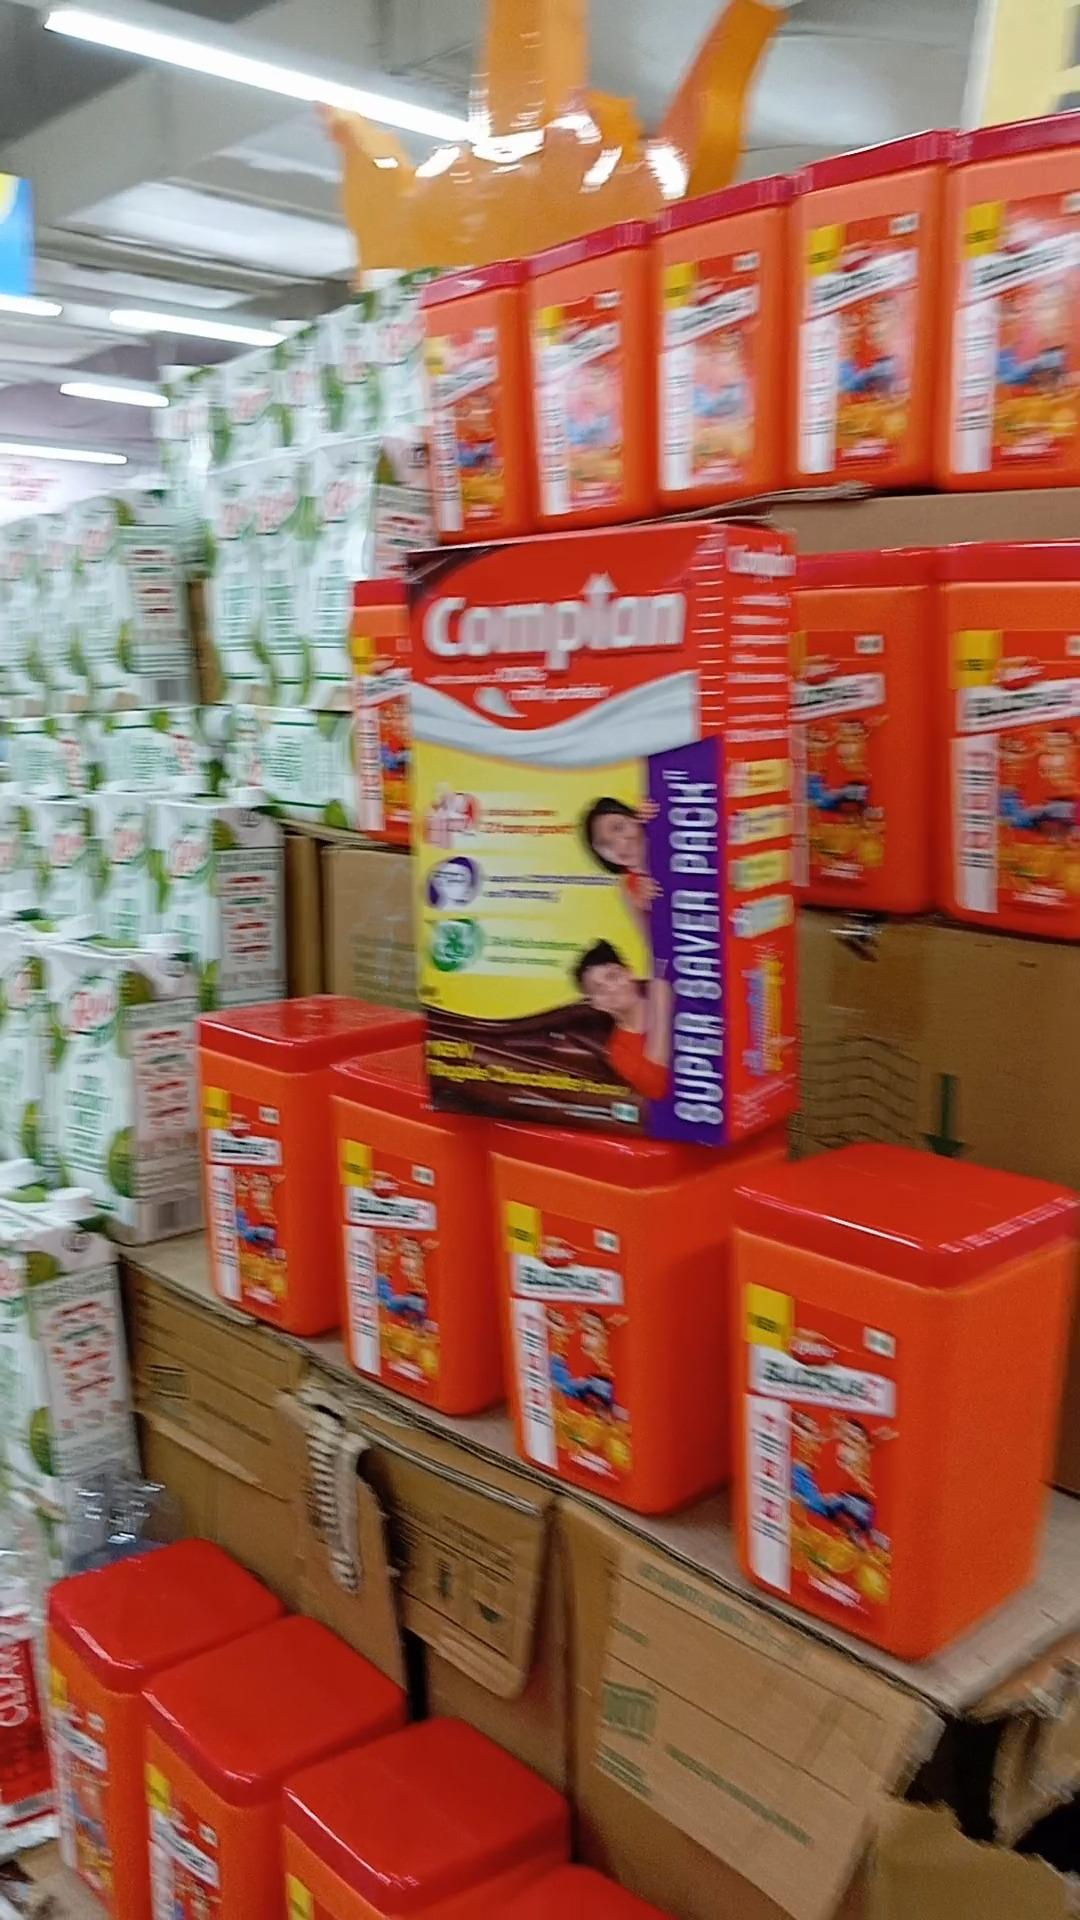COMPLAN_CHOCOLATE_1_KG_PACK: (409, 535, 728, 1141)
